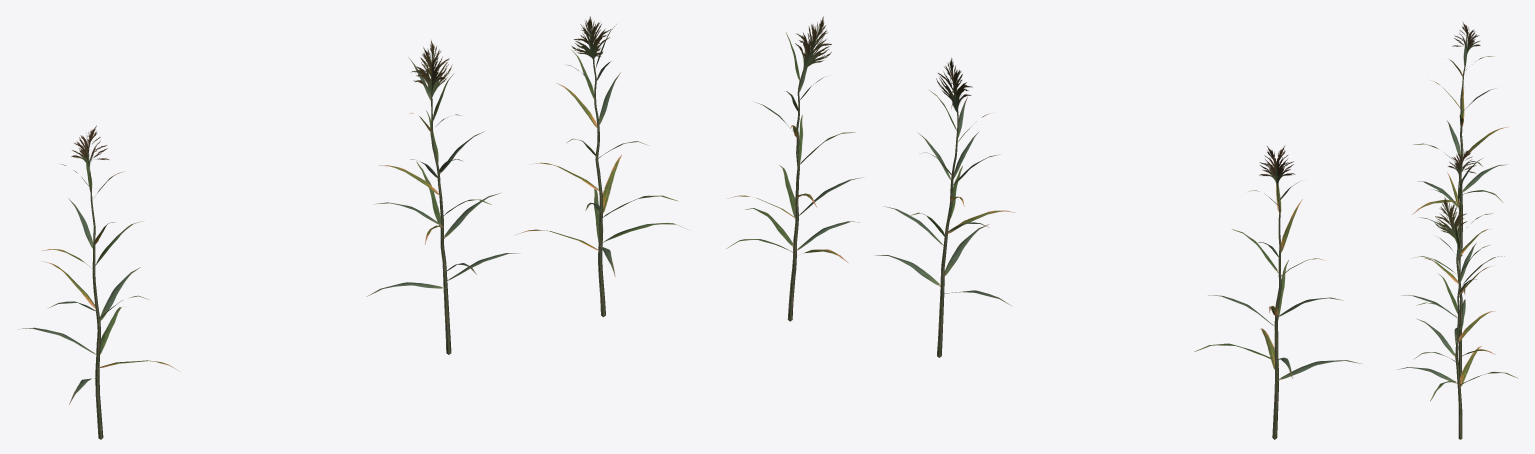
The model's file is reed_a.glb.
The picture shows the model from 3 angles, left to right: view 1: azimuth 30°, elevation 25°; view 2: azimuth 150°, elevation 25°; view 3: azimuth 270°, elevation 25°; orthographic projection. The views are drawn at different scales.
Parts seen in each view (by area): view 1: Reed_1_w; view 2: Reed_1_w; view 3: Reed_1_w.
Part boxes in pixels (x1=…): Reed_1_w: x1=18, y1=16, x2=683, y2=439; Reed_1_w: x1=726, y1=16, x2=1361, y2=439; Reed_1_w: x1=1397, y1=22, x2=1517, y2=439.
Bounding box in the file's own units: 2.73 × 1.3 × 0.6266.
2 materials, 2 textured.
